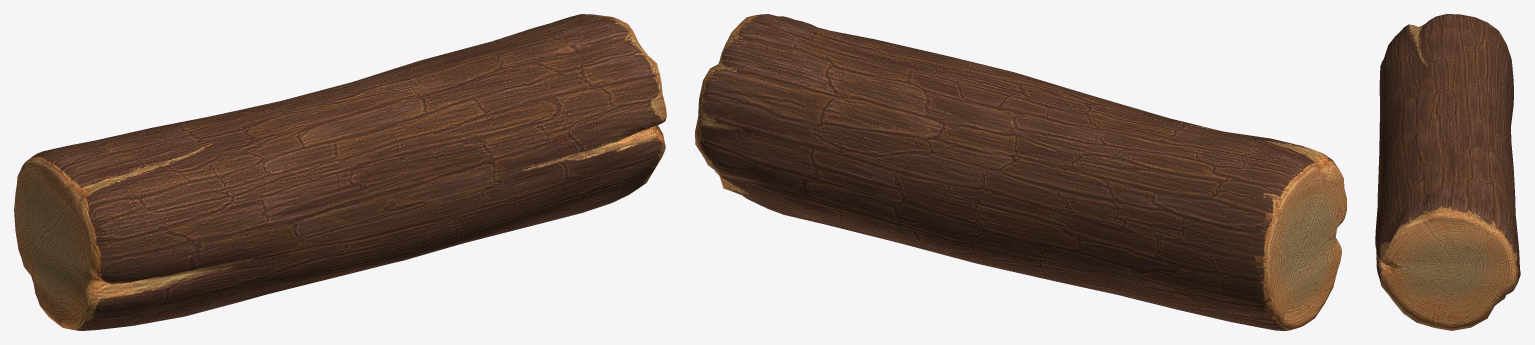
File: str-log.glb
3 renders of one model, left to right at view 1: azimuth 30°, elevation 25°; view 2: azimuth 150°, elevation 25°; view 3: azimuth 270°, elevation 25°, orthographic. The views are drawn at different scales.
Visible parts, largest first — view 1: node_id30; view 2: node_id30; view 3: node_id30.
Boxes of the visible parts, left/top/right/bottom form: node_id30: left=14, top=14, right=666, bottom=330; node_id30: left=695, top=14, right=1346, bottom=330; node_id30: left=1375, top=14, right=1520, bottom=330.
Size of the model in its own units: 1.29 by 0.3914 by 0.383.
Materials: 1 (1 with a texture image).
